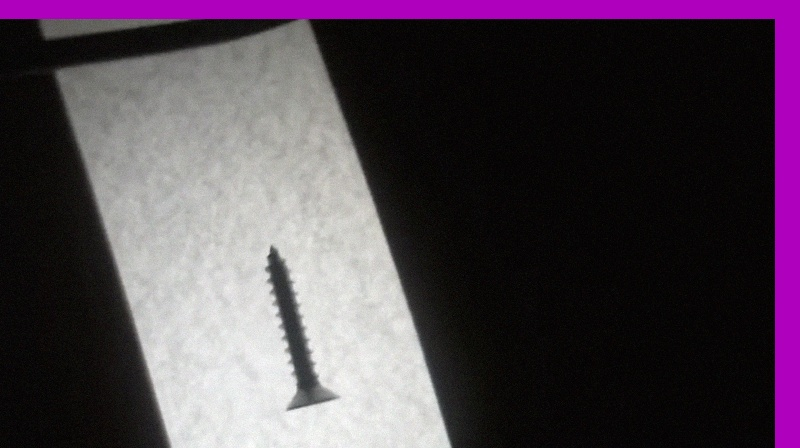S001: (259, 241, 342, 415)
